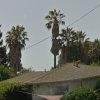Palm tree: (40, 7, 85, 62)
